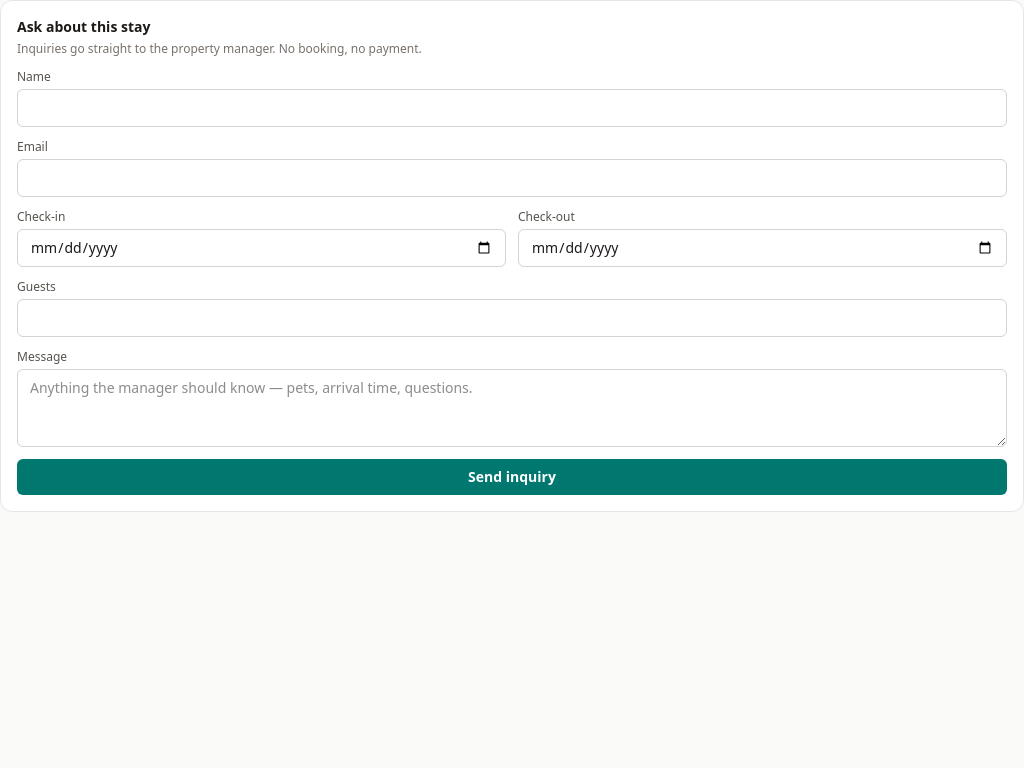
it: InquiryForm › shows a submit error when the API is unreachable
This screenshot has width=1024, height=768.
In the field labelled "Name": (512, 108) [17, 89, 1007, 127], type "Mason Hooten"
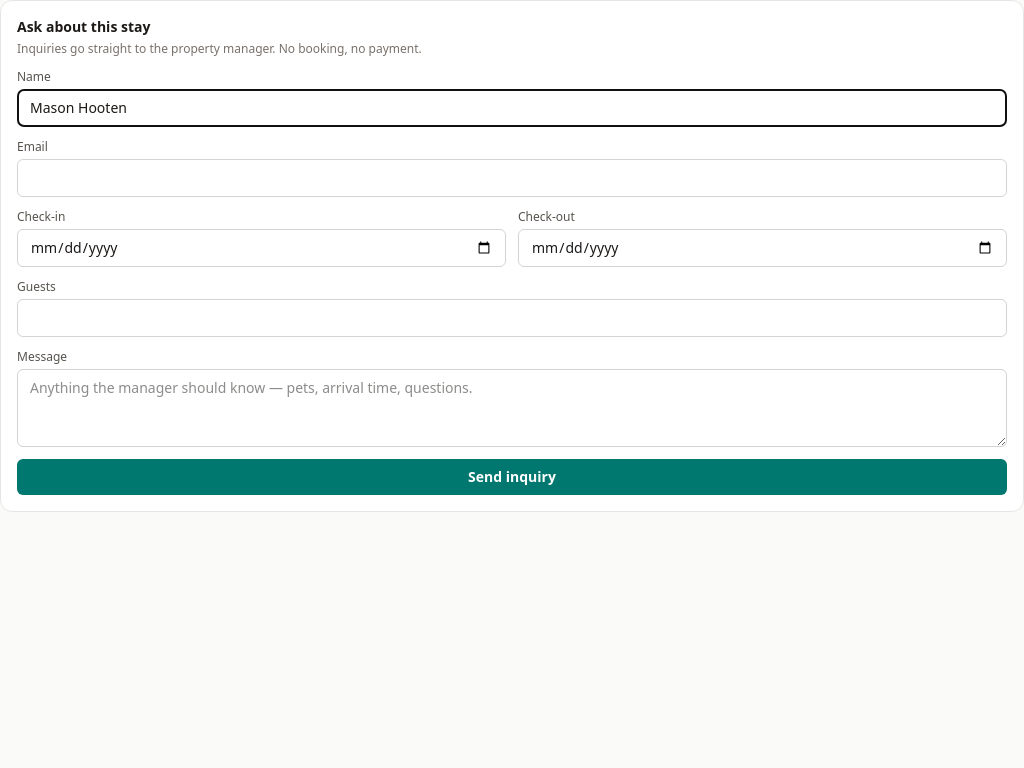
In the field labelled "Email": (512, 178) [17, 159, 1007, 197], type "mason@example.com"
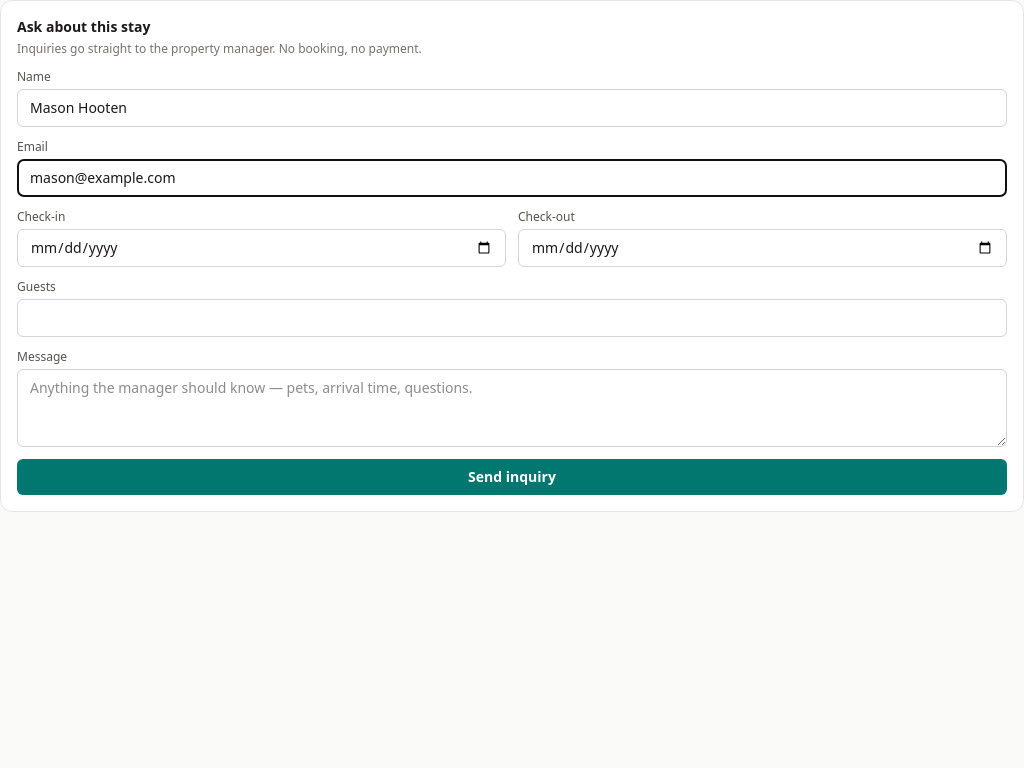
Click the button "Send inquiry": (512, 477) [17, 459, 1007, 495]
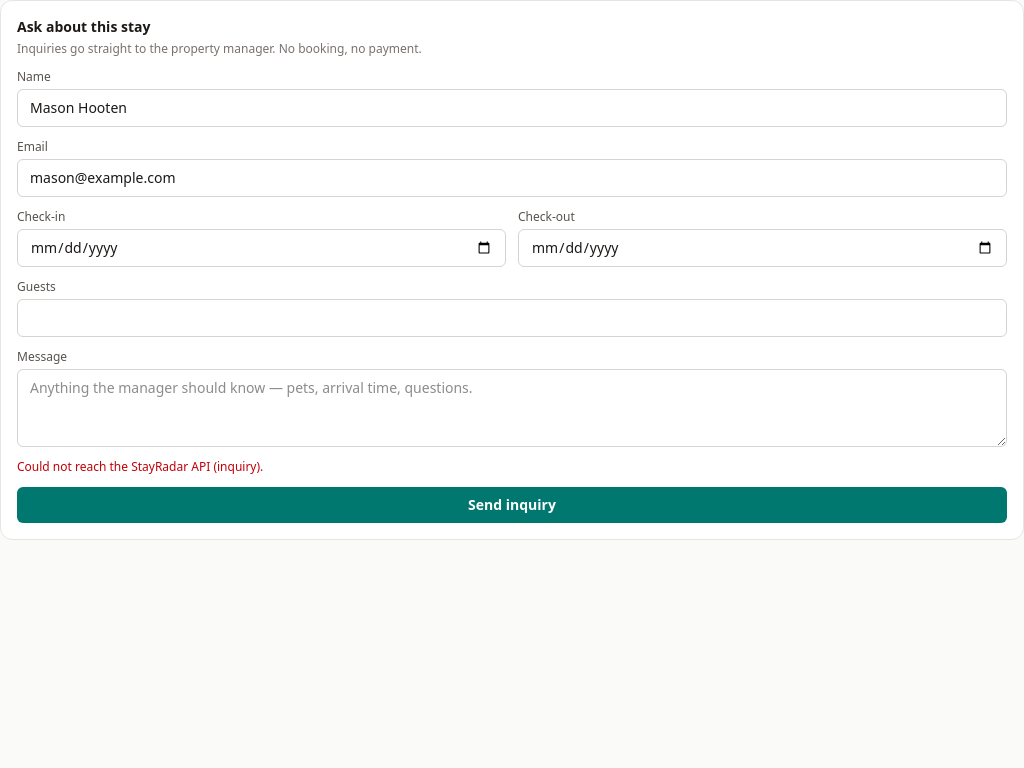
Now the text "Could not reach the StayRadar API (inquiry)." is shown, box [17, 458, 263, 475]
